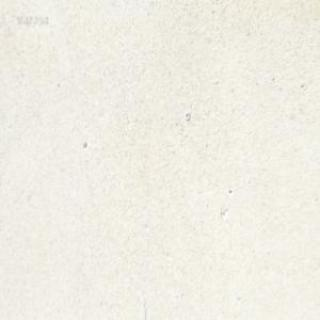Washertrack_idkeyframe: (184, 110, 190, 121)
